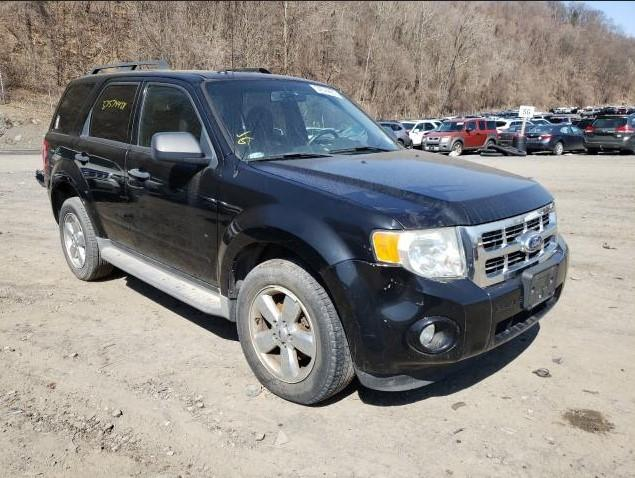Back-door: (75, 76, 144, 251)
Back-wheel: (59, 197, 110, 280)
Back-window: (89, 84, 139, 145), (52, 84, 95, 134)
Fender: (217, 154, 403, 291)
Front-bumper: (324, 236, 567, 392)
Front-door: (125, 77, 225, 287)
Front-wheel: (237, 260, 352, 401)
Front-window: (133, 83, 213, 155)
Grille: (466, 206, 555, 292)
Headlight: (372, 228, 467, 279)
Hood: (246, 145, 551, 228)
Mirror: (151, 132, 210, 165)
Quarter-panel: (44, 132, 108, 238)
Rocker-panel: (96, 238, 237, 321)
Roof: (85, 68, 322, 84)
Windshield: (202, 80, 397, 160)
